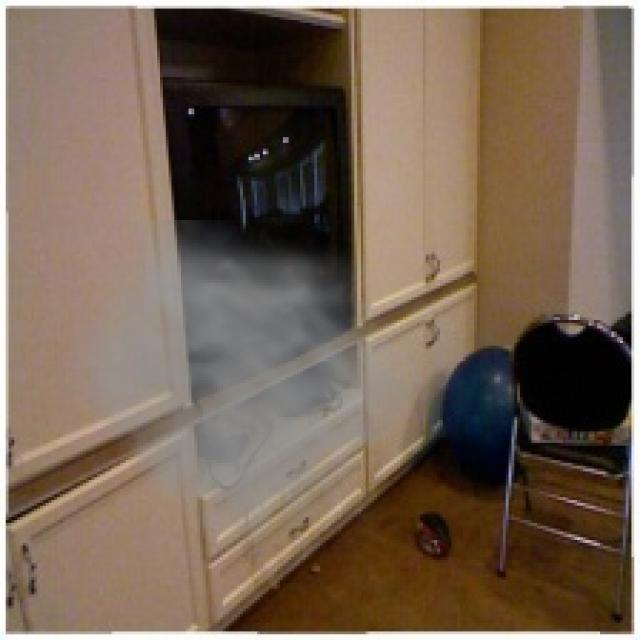Smoke: (54, 220, 429, 577)
